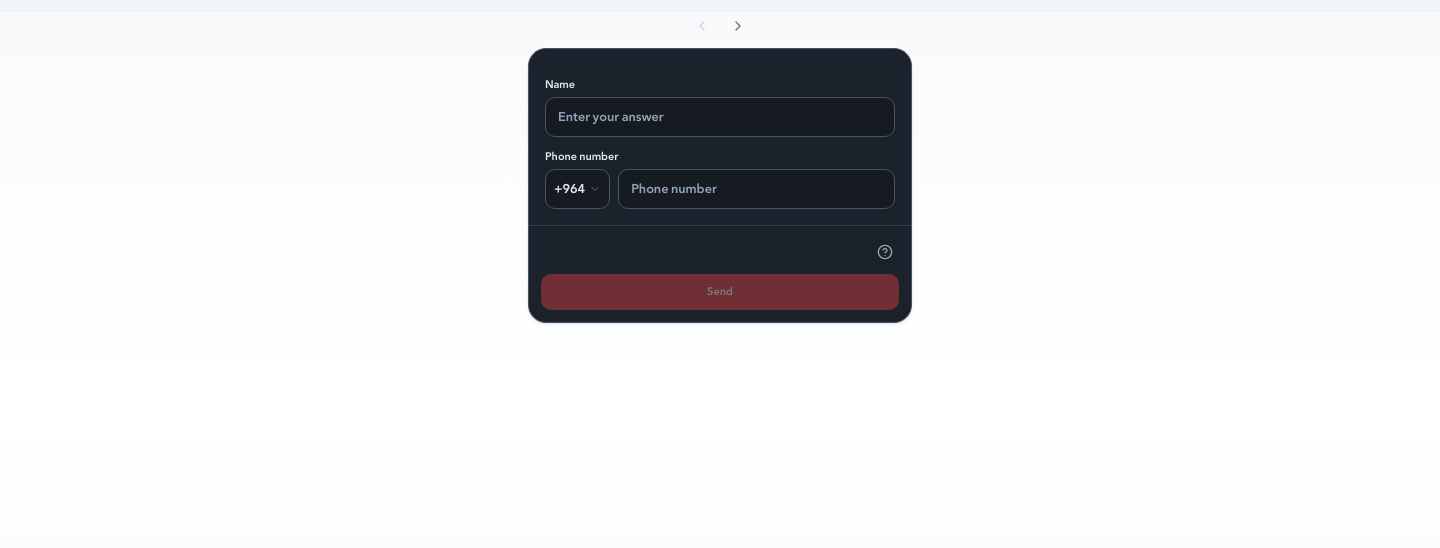
Scenario: automatic form privacy › keeps en policy links accessible from the footer popup even with the checkbox hidden
The width and height of the screenshot is (1440, 548).
Click the button named "About privacy": point(885, 252) [871,238,899,266]
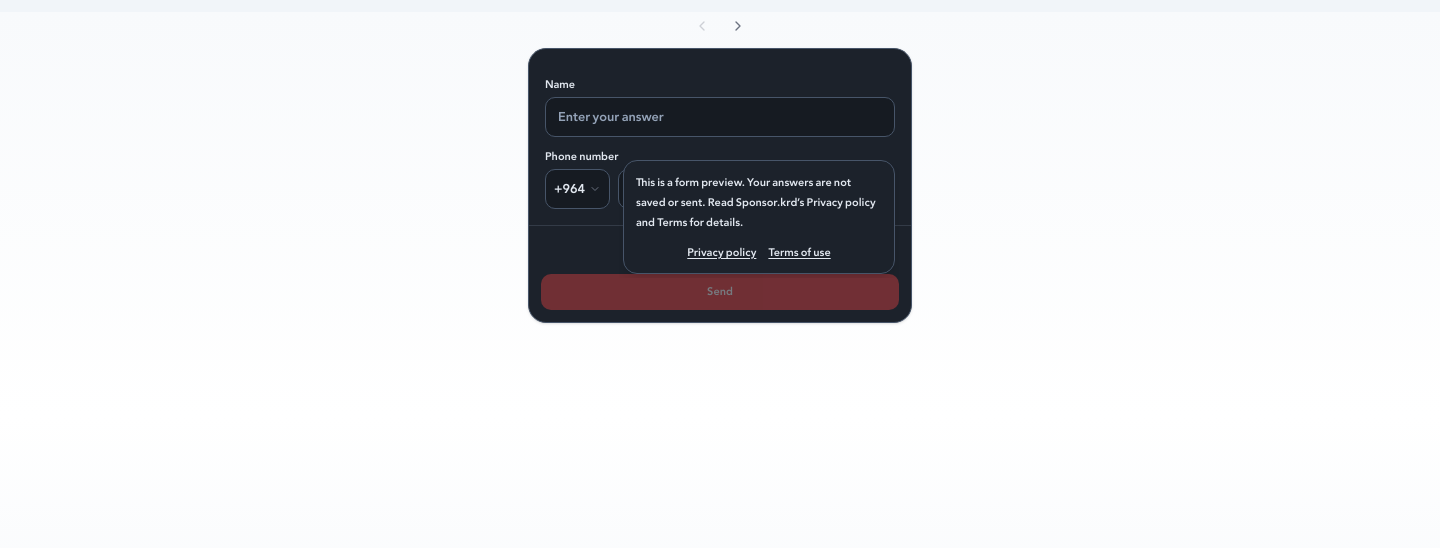
Check: the element named "Privacy policy" is shown, box [623,160,895,274]
